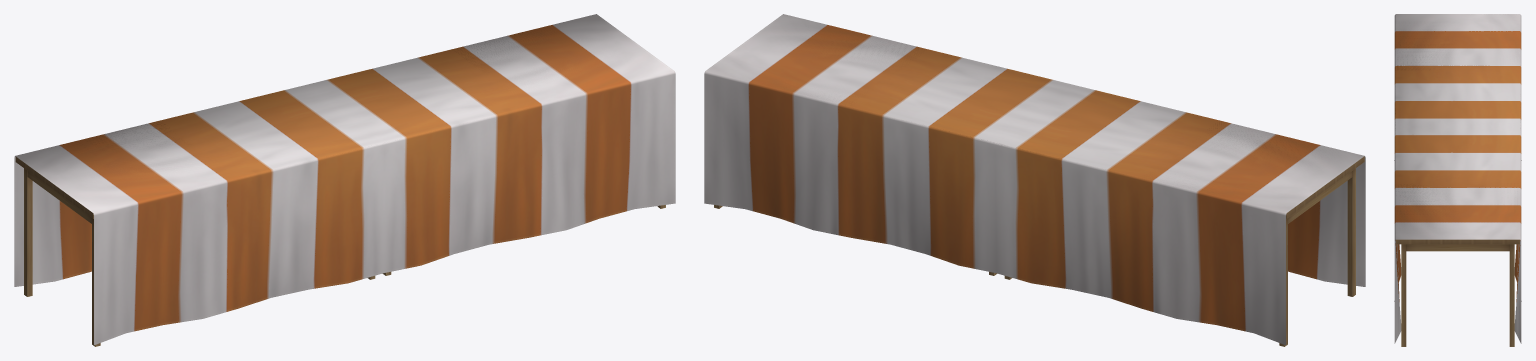
The model's file is jsf_Table_03.fbx.
The picture shows the model from 3 angles, left to right: view 1: azimuth 30°, elevation 25°; view 2: azimuth 150°, elevation 25°; view 3: azimuth 270°, elevation 25°; orthographic projection. The views are drawn at different scales.
Parts seen in each view (by area): view 1: jsf_Table_03; view 2: jsf_Table_03; view 3: jsf_Table_03.
Boxes of the visible parts, box(x1,y1,x2,y2) form: jsf_Table_03: box(14, 14, 675, 346); jsf_Table_03: box(704, 14, 1365, 346); jsf_Table_03: box(1394, 14, 1521, 346).
Size of the model in its own units: 310 by 70.03 by 73.66.
